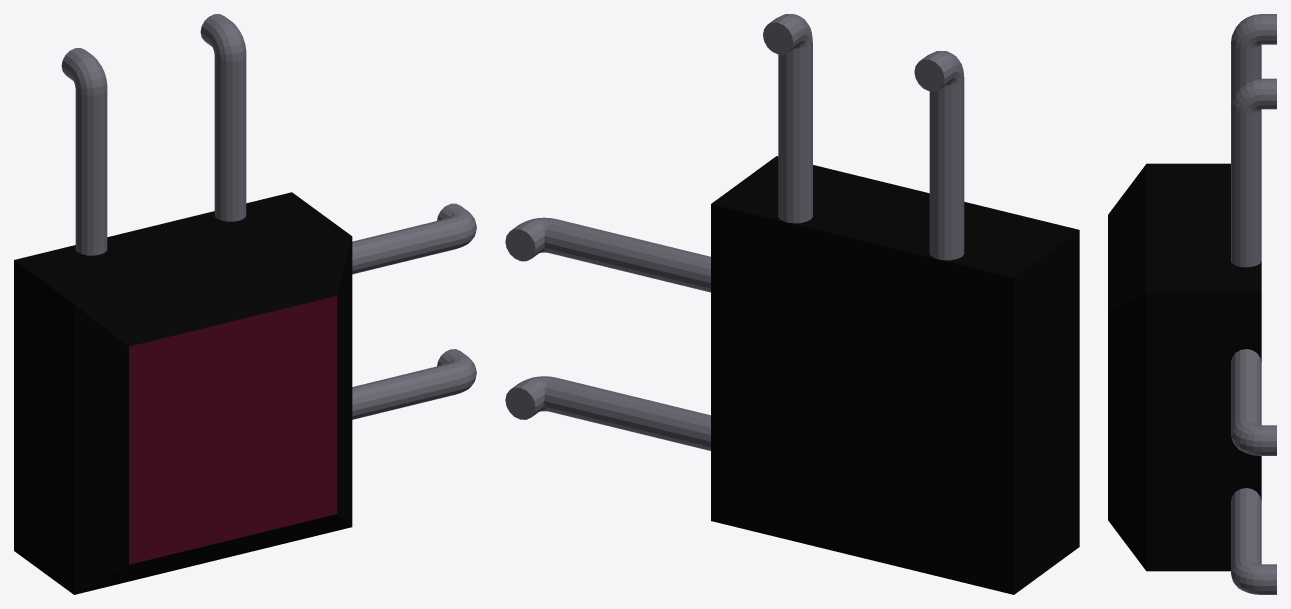
File: ElektrikPanosu.fbx
The picture shows the model from 3 angles, left to right: view 1: azimuth 30°, elevation 25°; view 2: azimuth 150°, elevation 25°; view 3: azimuth 270°, elevation 25°; orthographic projection. The views are drawn at different scales.
Visible parts, largest first — view 1: ElektrikPanosu; view 2: ElektrikPanosu; view 3: ElektrikPanosu.
Part boxes in pixels (box(x1,y1,x2,y2)): ElektrikPanosu: box(14, 14, 476, 594); ElektrikPanosu: box(505, 14, 1079, 594); ElektrikPanosu: box(1108, 14, 1276, 594).
Size of the model in its own units: 330 by 330 by 110.
